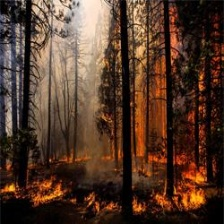fire: (5, 180, 217, 221), (133, 130, 213, 180)
